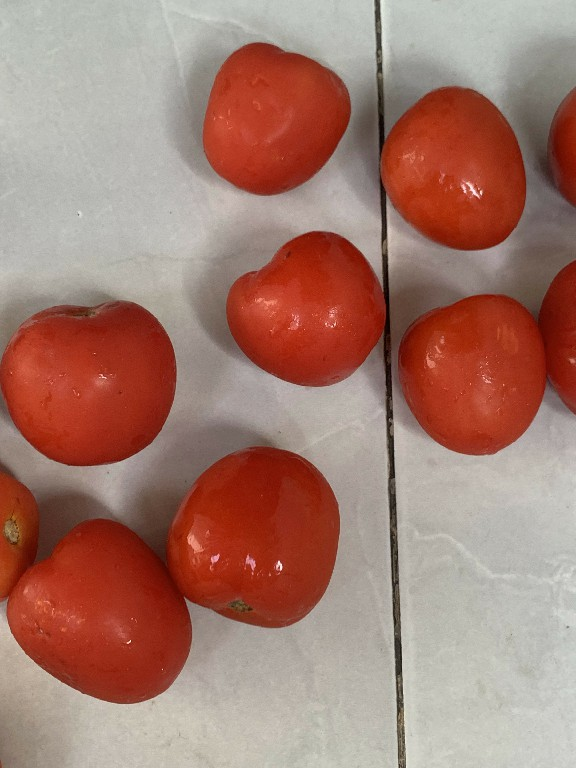OK: (1, 511, 193, 718), (159, 440, 346, 630), (0, 289, 183, 483), (368, 83, 531, 252), (196, 34, 356, 204), (223, 225, 389, 387), (398, 294, 552, 461)
